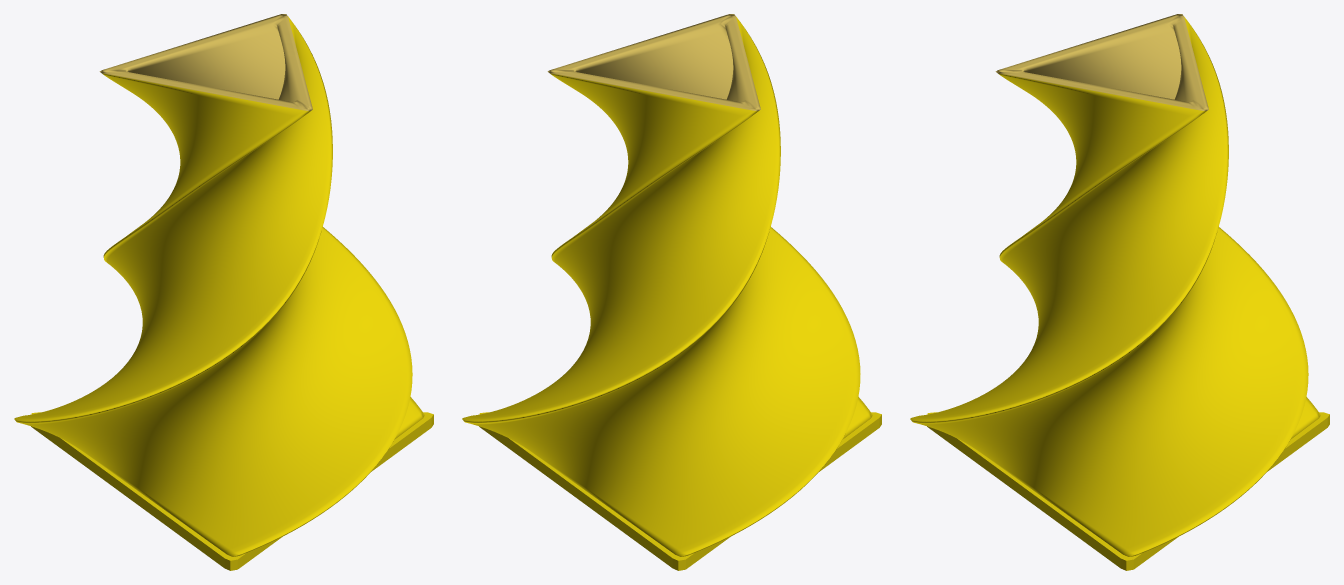
Rendered from Vase2.fbx.
The picture shows the model from 3 angles, left to right: view 1: azimuth 30°, elevation 25°; view 2: azimuth 150°, elevation 25°; view 3: azimuth 270°, elevation 25°; orthographic projection.
Visible parts, largest first — view 1: Object_1.009; view 2: Object_1.009; view 3: Object_1.009.
Boxes of the visible parts, x1,y1,x2,y2 form: Object_1.009: [14, 14, 433, 570]; Object_1.009: [462, 14, 881, 570]; Object_1.009: [910, 14, 1329, 570].
Size of the model in its own units: 104 by 107 by 100.
